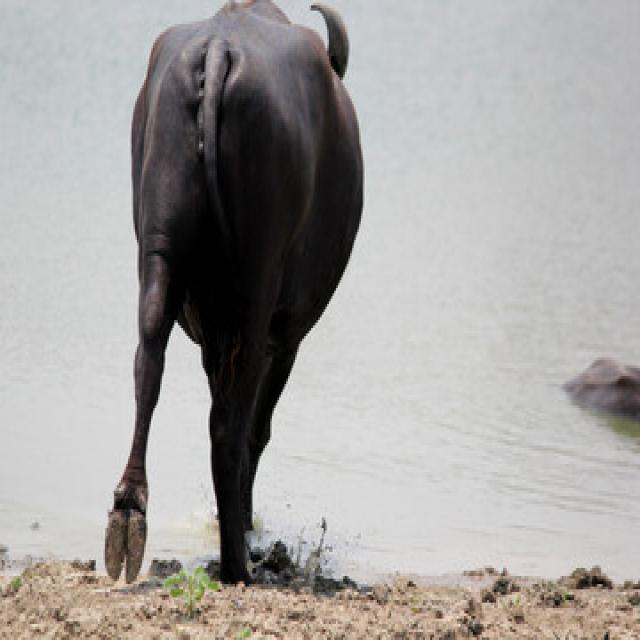Buffalo: (100, 0, 366, 584)
